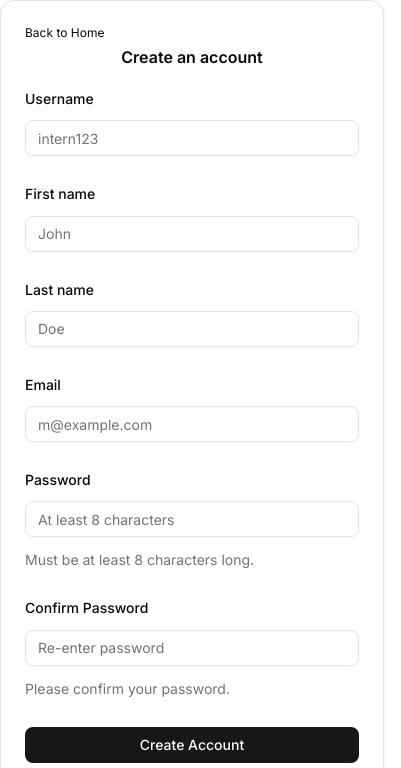
Test case: SignupCard › validates minimum password length
Step 1. Type "newuser" into the field labelled "Username" → x=192, y=138, box [25,120,359,156]
Step 2. Type "New" into the field labelled "First name" → x=192, y=234, box [25,216,359,252]
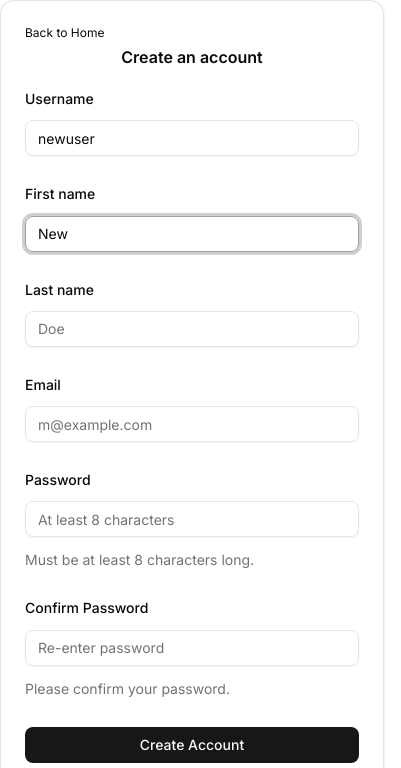
Step 3. Type "User" into the field labelled "Last name" → x=192, y=329, box [25,311,359,347]
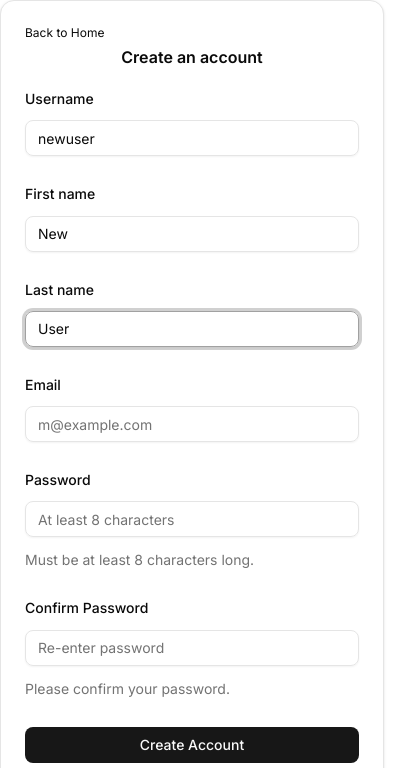
Step 4. Type "new@example.com" into the field labelled "Email" → x=192, y=424, box [25,406,359,442]
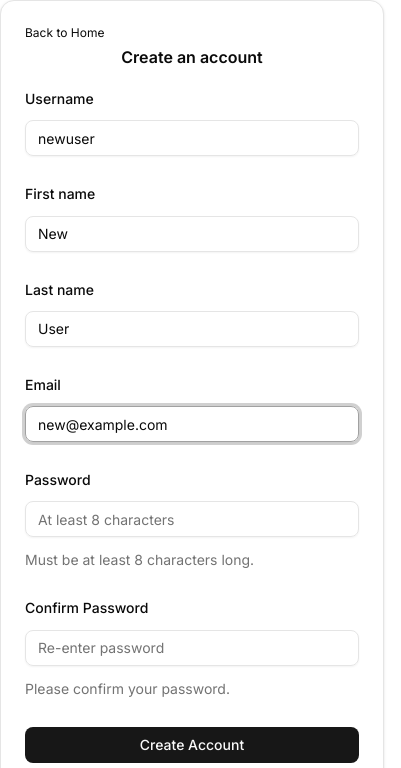
Step 5. Type "short" into the password field labelled "Password" → x=192, y=519, box [25,501,359,537]
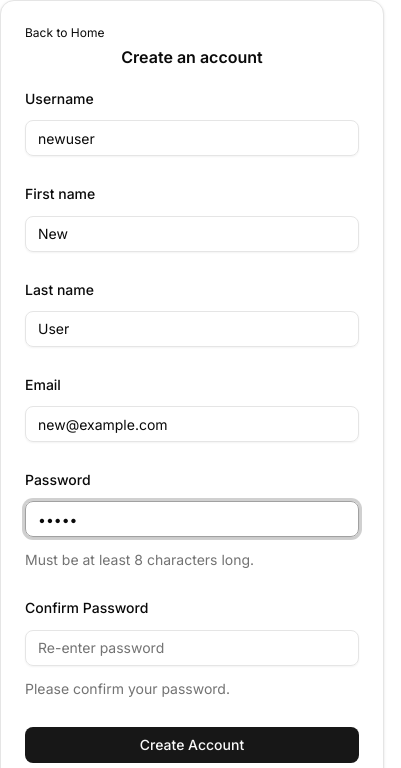
Step 6. Type "short" into the password field labelled "Confirm Password" → x=192, y=648, box [25,630,359,666]
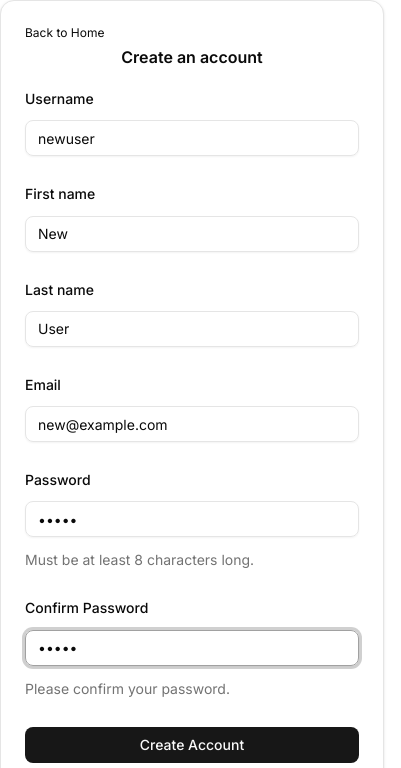
Step 7. Click the button "Create Account" → x=192, y=744, box [25,726,359,762]
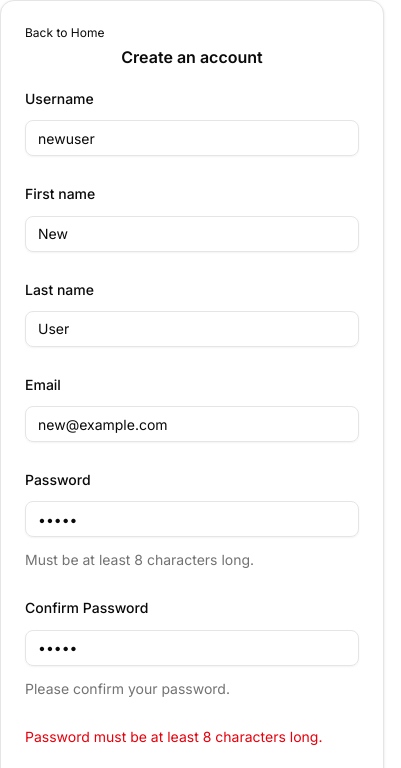
Check: the text "Password must be at least 8 characters long." is shown, box [25,726,359,746]
